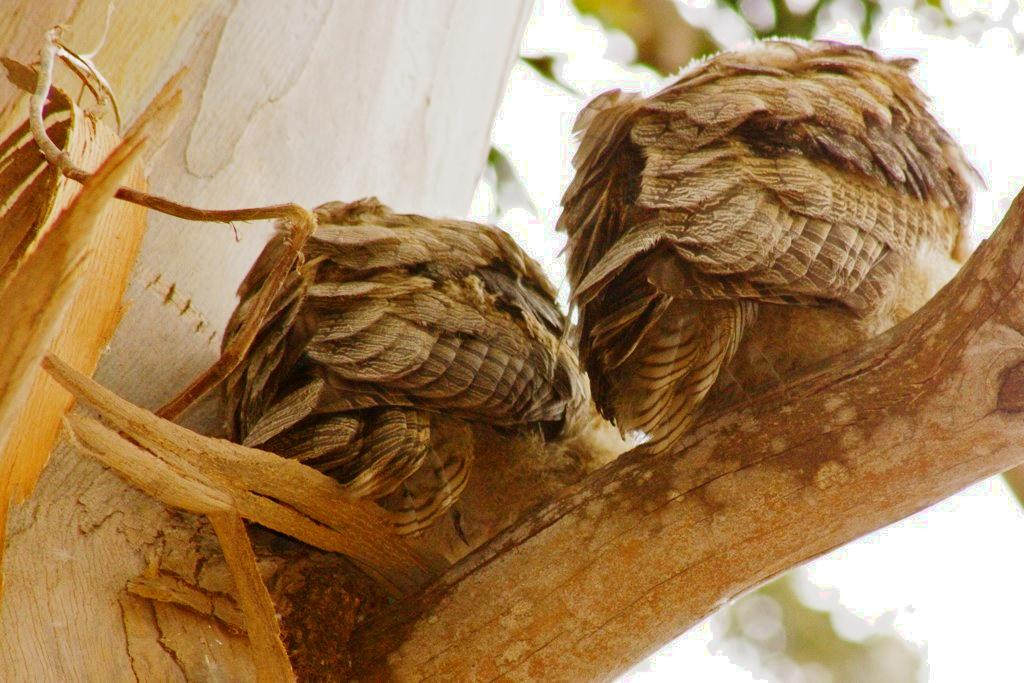Owl: (554, 35, 988, 458)
